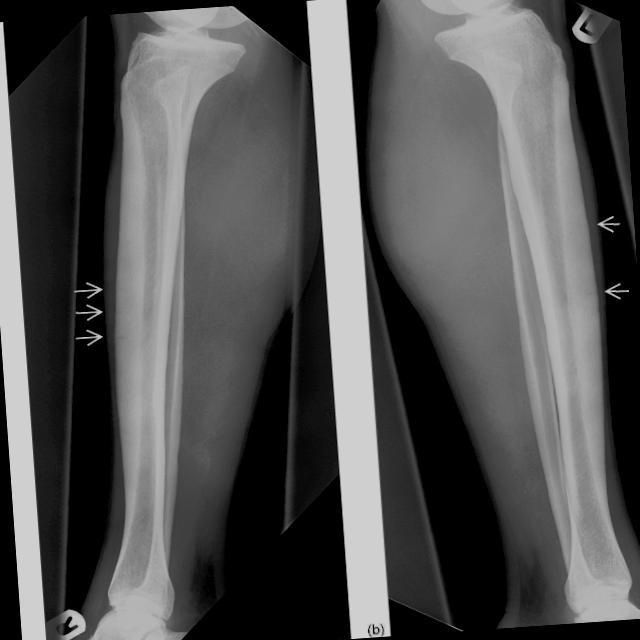HairLine Fracture: (580, 280, 600, 300), (115, 326, 133, 348)
